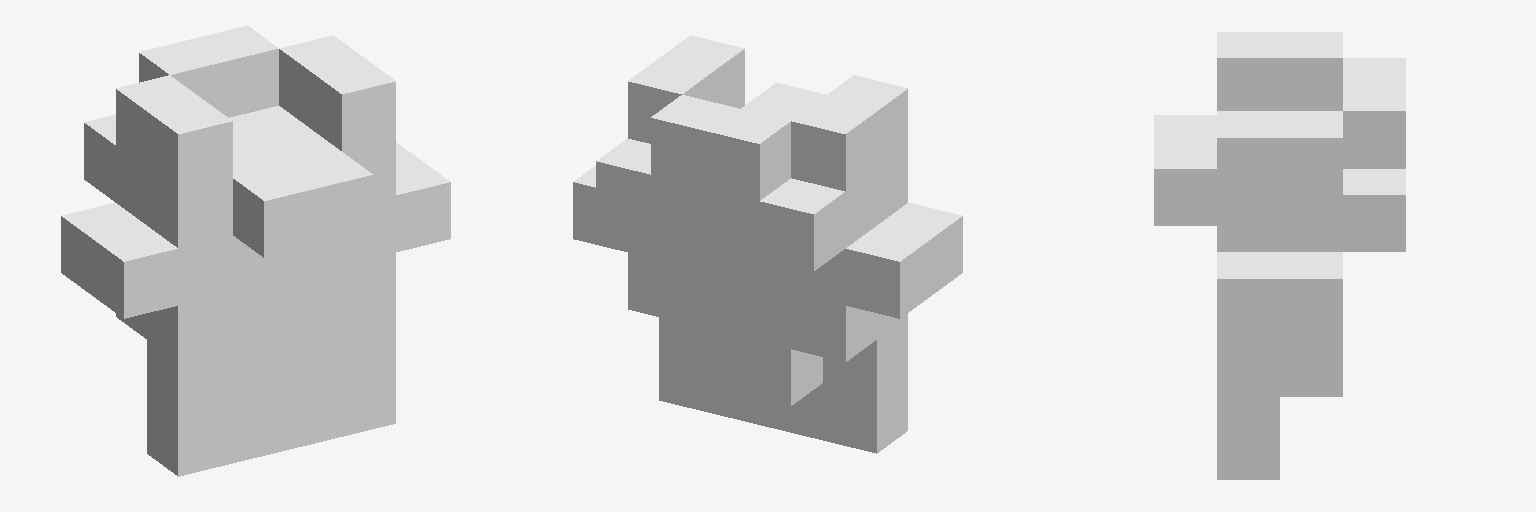
The model's file is scummBarPirateKing02_head.obj.
3 renders of one model, left to right at view 1: azimuth 30°, elevation 25°; view 2: azimuth 150°, elevation 25°; view 3: azimuth 270°, elevation 25°, orthographic.
Size of the model in its own units: 6 by 6 by 4.